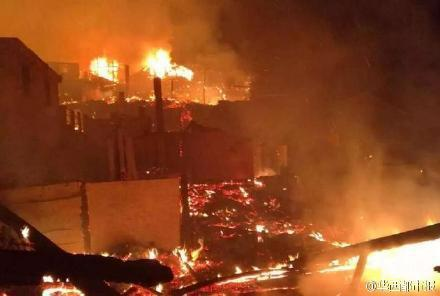fire: (188, 176, 438, 293), (97, 240, 215, 289), (84, 44, 198, 84), (39, 266, 79, 294)
